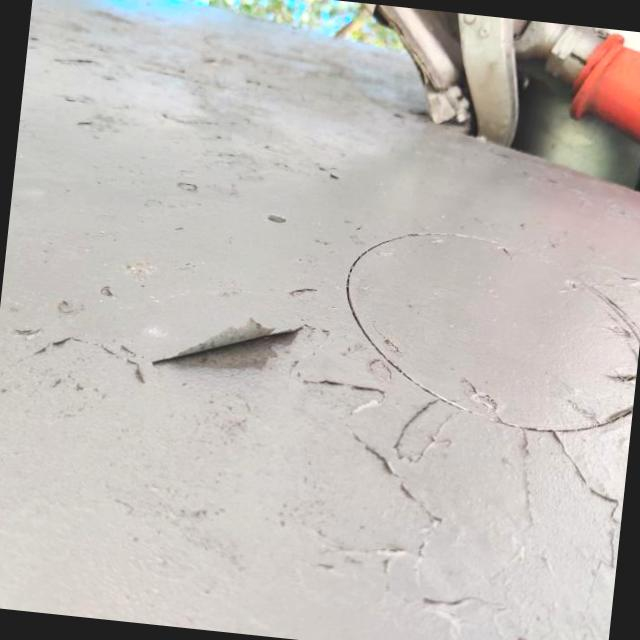paint-off: (130, 276, 328, 429)
